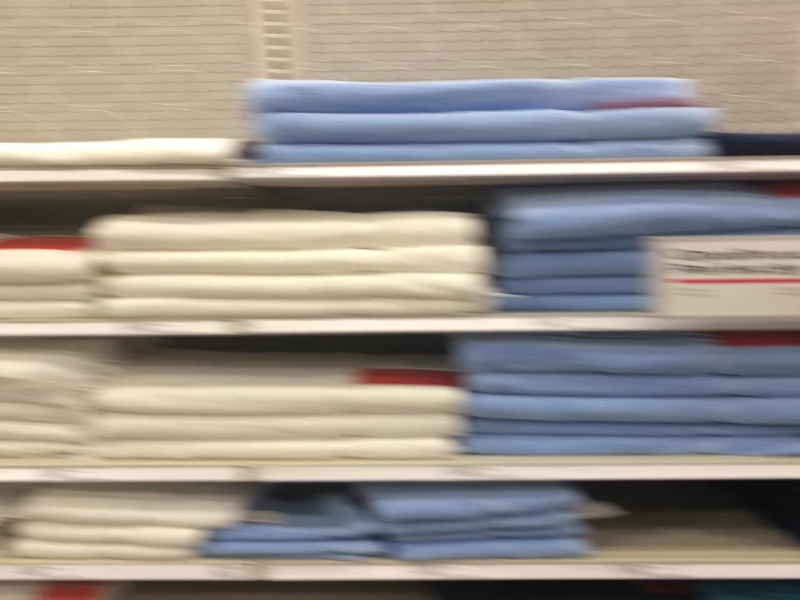empty_shelf_space: (600, 479, 778, 563)
